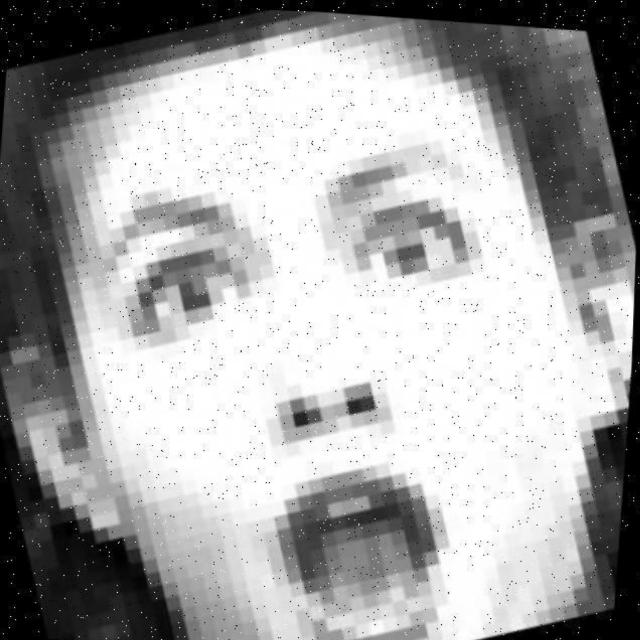Surprised: (5, 110, 626, 640)
